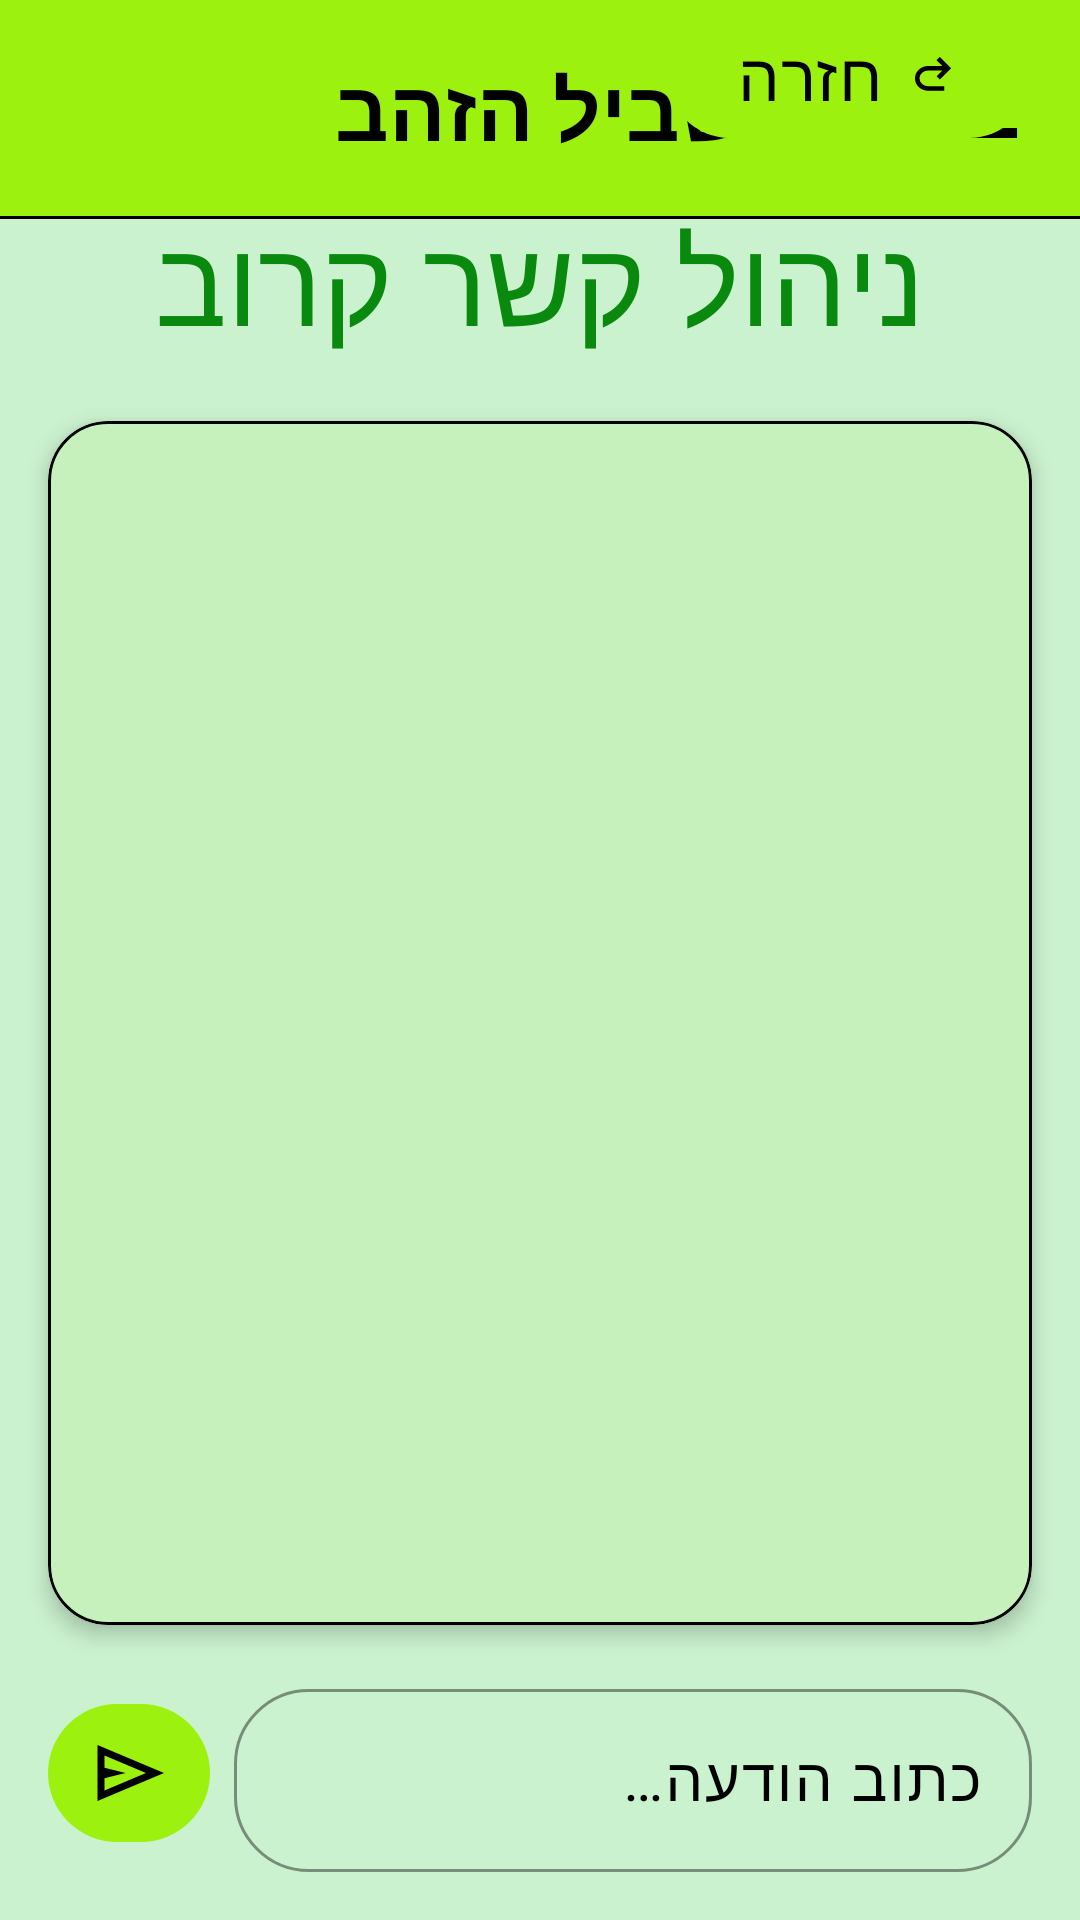

Icon click points for this 1080w x 1920h phone screenshot, format (x=x, y=y):
שלח הודעה: (x=129, y=1773)
